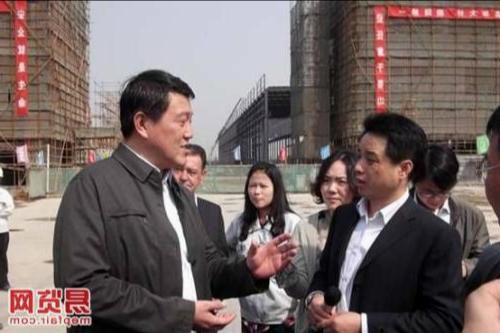no_helmet: (118, 64, 199, 162), (357, 110, 424, 200), (417, 142, 460, 206), (315, 147, 358, 210), (241, 158, 283, 211), (177, 140, 213, 195)
